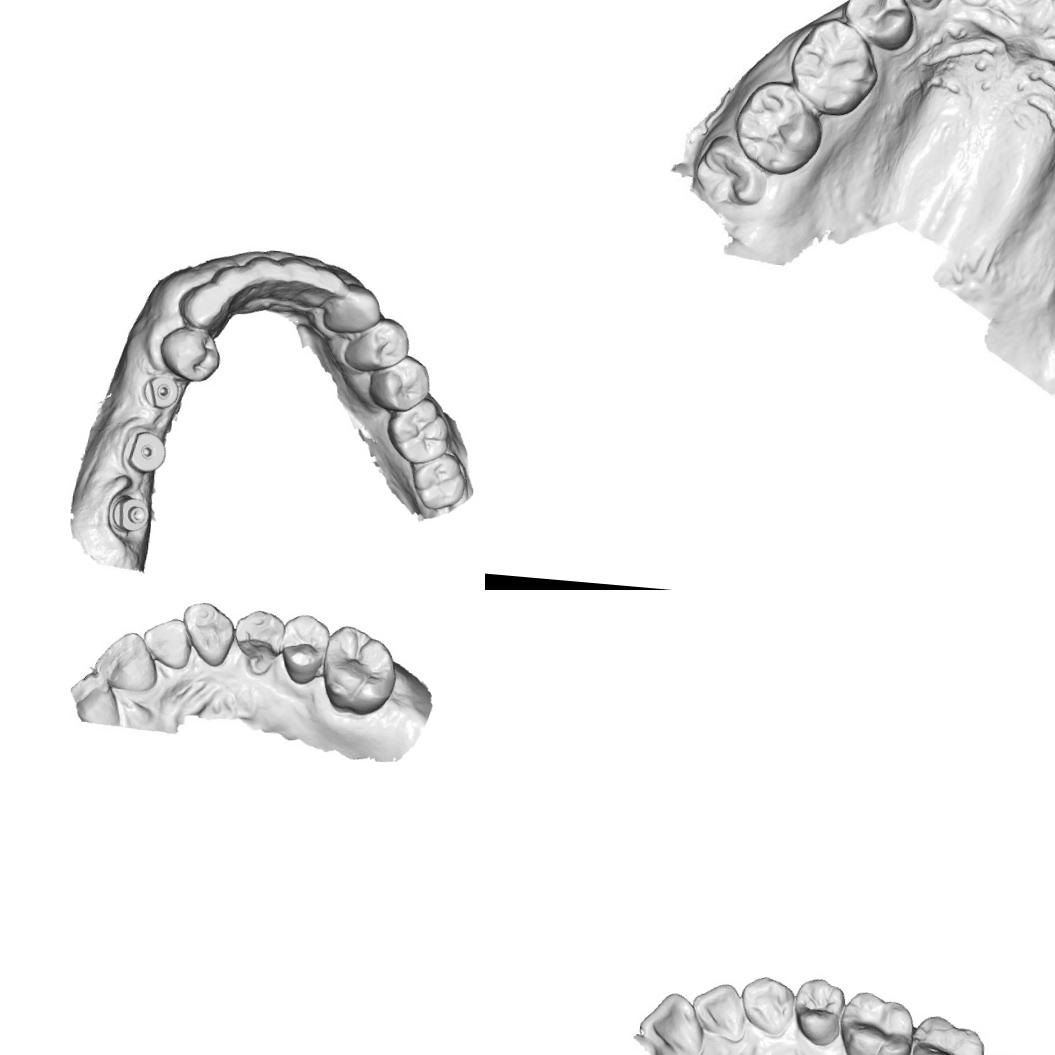canine: (736, 972, 798, 1040), (176, 598, 236, 667), (180, 278, 230, 334), (328, 281, 382, 331)
implant: (105, 490, 152, 536), (124, 430, 168, 473), (140, 372, 181, 411)
incisor: (634, 987, 710, 1055), (92, 628, 161, 694), (688, 978, 750, 1043), (64, 667, 126, 728), (139, 613, 194, 670), (312, 260, 348, 308), (280, 258, 316, 298), (244, 253, 283, 288), (214, 267, 250, 295)
molar: (788, 11, 880, 115), (732, 79, 824, 172), (319, 622, 400, 718), (833, 986, 917, 1055), (382, 394, 452, 468), (406, 450, 469, 512), (905, 1012, 987, 1055)
premolar: (790, 975, 846, 1050), (277, 611, 331, 686), (156, 325, 224, 383), (371, 352, 432, 413), (844, 0, 912, 52), (348, 316, 412, 370), (231, 606, 286, 663)
